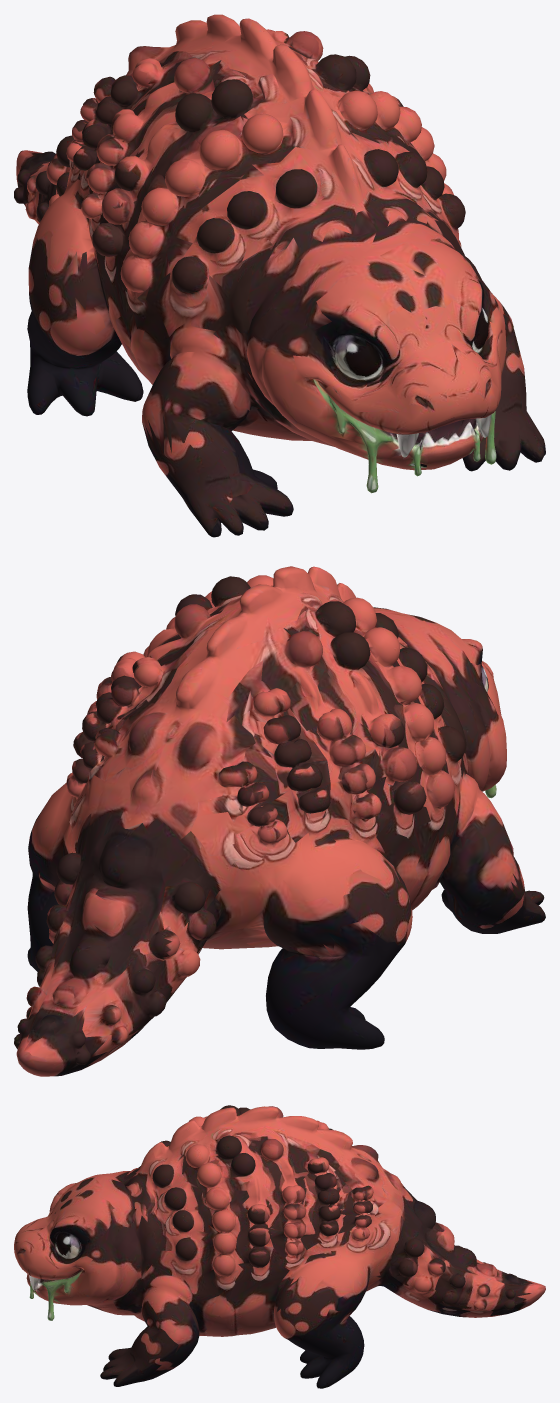
3 views of the same model, one above another, from view 1: azimuth 30°, elevation 25°; view 2: azimuth 150°, elevation 25°; view 3: azimuth 270°, elevation 25° (orthographic). The views are drawn at different scales.
Parts seen in each view (by area): view 1: Mesh_0; view 2: Mesh_0; view 3: Mesh_0.
Part boxes in pixels (<box>): Mesh_0: <box>14,14,545,537</box>; Mesh_0: <box>14,566,545,1076</box>; Mesh_0: <box>14,1105,545,1388</box>.
Size of the model in its own units: 0.9116 by 0.9135 by 1.9.
Materials: 1 (1 with a texture image).
